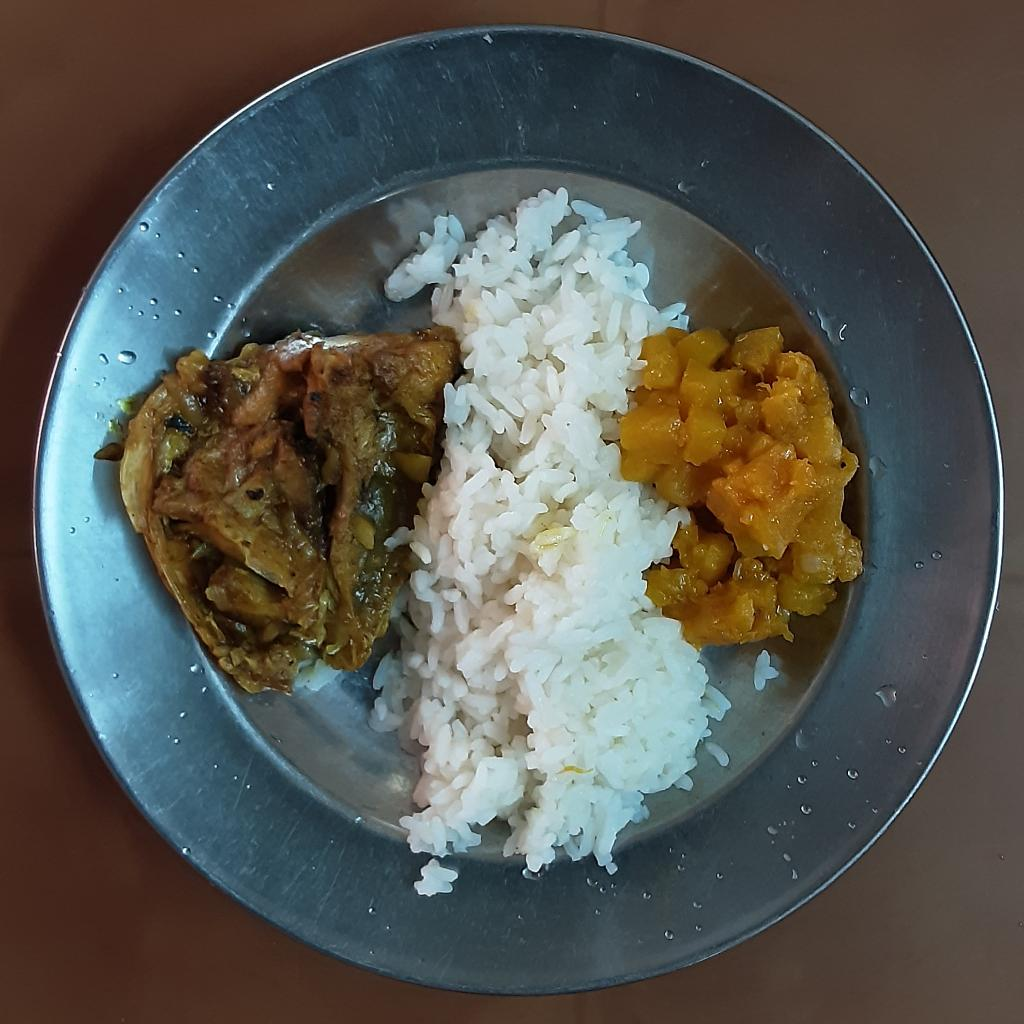fish: (124, 324, 453, 689)
kumra-vaji: (616, 320, 860, 647)
rice: (371, 190, 731, 892)
